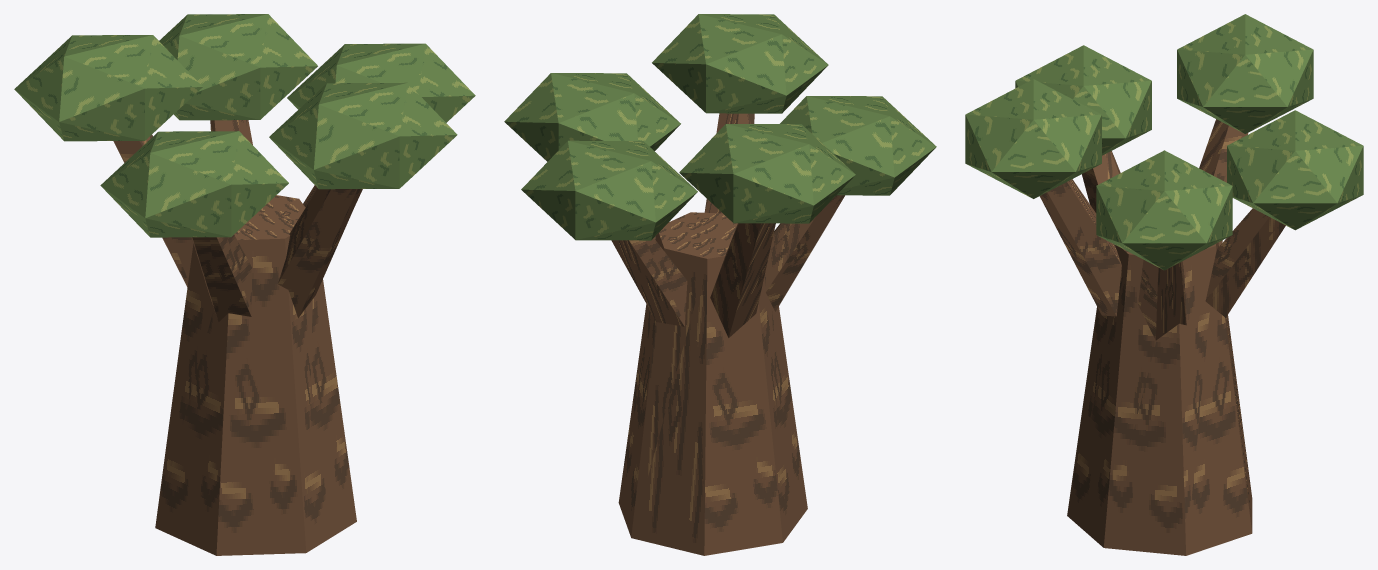
File: arvore-baoba-v02.gltf
The picture shows the model from 3 angles, left to right: view 1: azimuth 30°, elevation 25°; view 2: azimuth 150°, elevation 25°; view 3: azimuth 270°, elevation 25°; orthographic projection. The views are drawn at different scales.
Visible parts, largest first — view 1: tronco-galhos-copa; view 2: tronco-galhos-copa; view 3: tronco-galhos-copa.
Boxes of the visible parts, x1,y1,x2,y2 form: tronco-galhos-copa: (14, 14, 475, 555); tronco-galhos-copa: (504, 14, 936, 555); tronco-galhos-copa: (965, 14, 1363, 555).
Bounding box in the file's own units: 3.53 × 4.18 × 3.47.
1 material, 1 textured.
